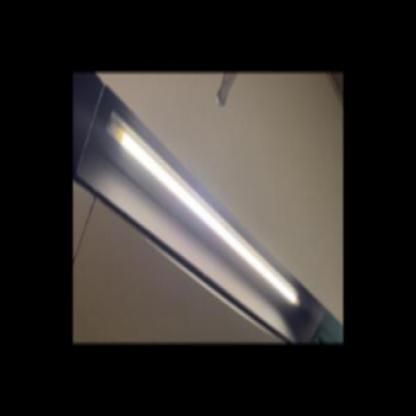light_on: (103, 108, 305, 312)
